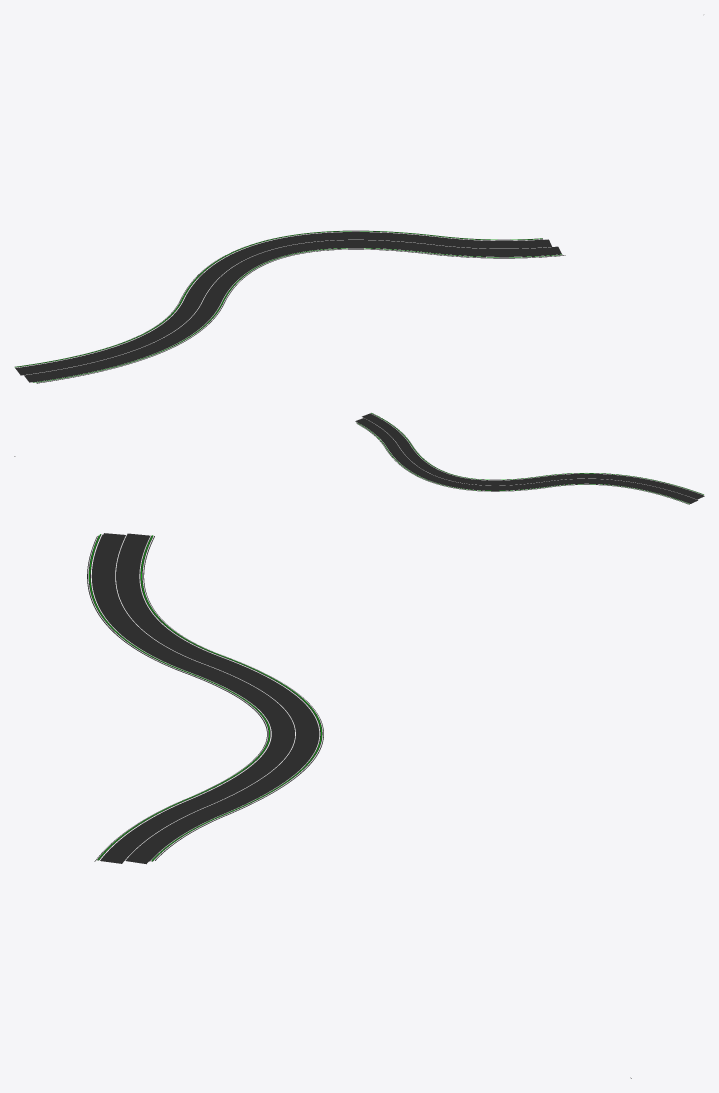
The model's file is Spa.Short.09.glb.
The picture shows the model from 3 angles, top to bottom: view 1: azimuth 30°, elevation 25°; view 2: azimuth 150°, elevation 25°; view 3: azimuth 270°, elevation 25°; orthographic projection. The views are drawn at different scales.
Parts seen in each view (by area): view 1: Track.009; view 2: Track.009; view 3: Track.009.
Part boxes in pixels (x1,y1,x2,y2): Track.009: [14, 230, 565, 383]; Track.009: [14, 412, 704, 504]; Track.009: [87, 533, 631, 1078].
Size of the model in its own units: 339 by 0.1549 by 143.
